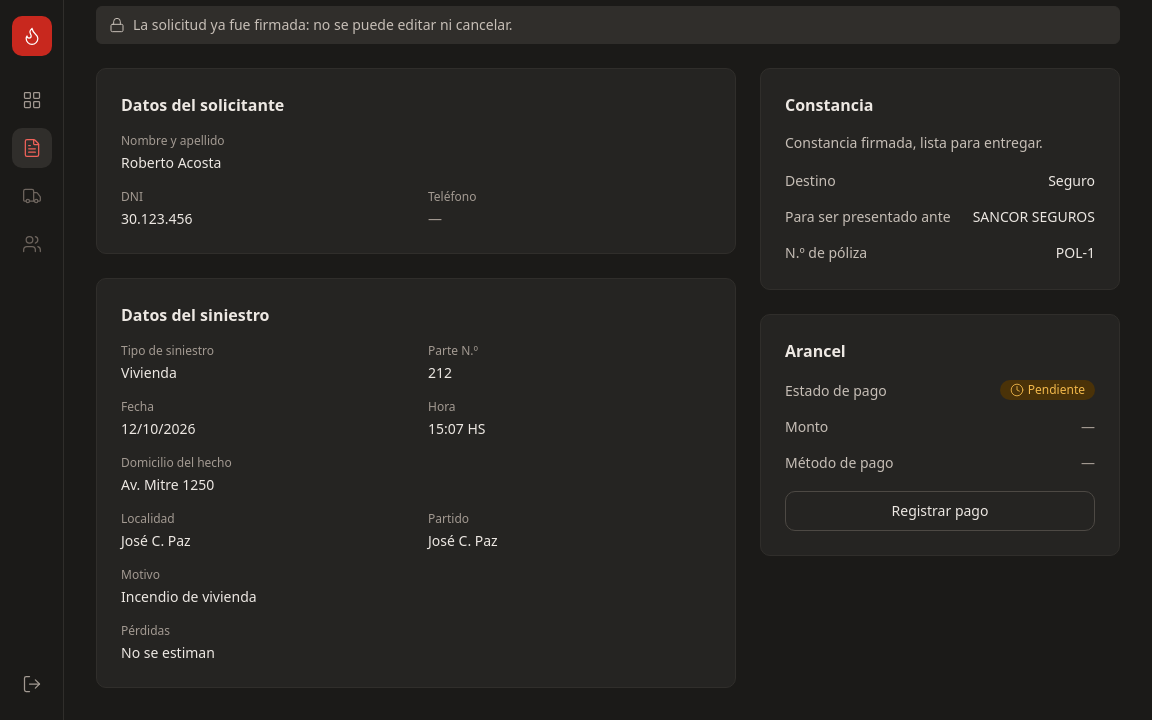
Test: SolicitudDetallePage · arancel (US14) › valida el modal y guarda el pago abonado
(page scrolled)
Click the button "Registrar pago". click: (940, 511)
box: [785,491,1095,531]
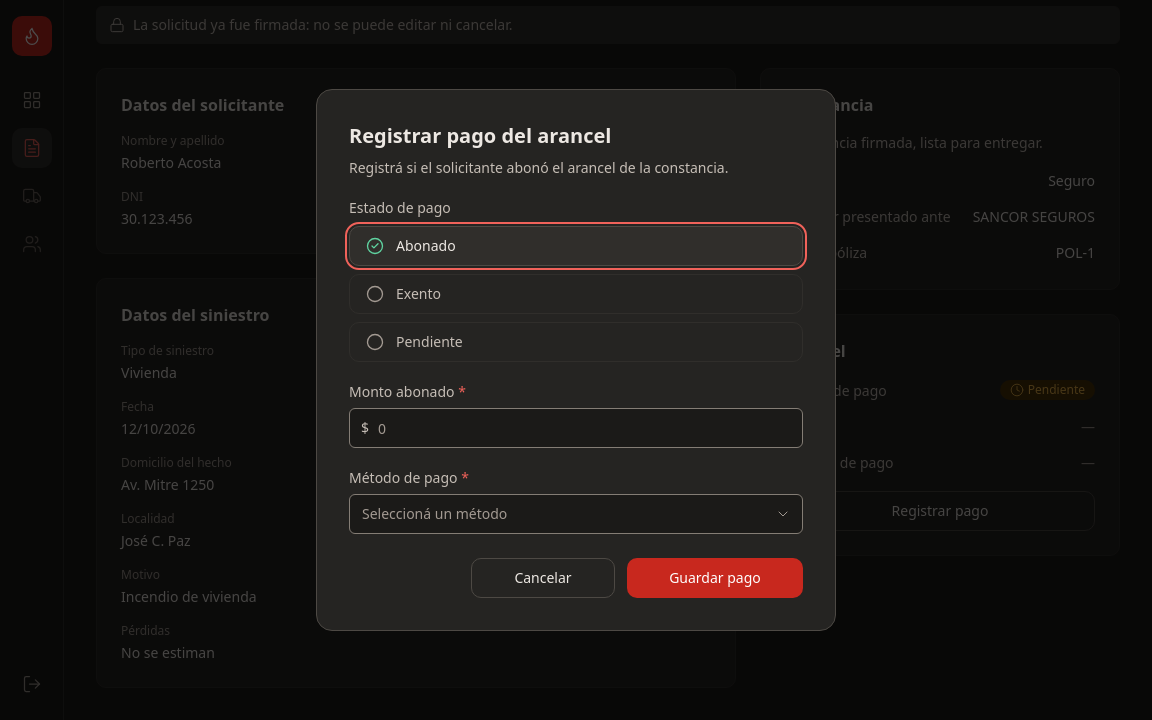
Click the button "Guardar pago". click: (715, 578)
box: [627,558,803,598]
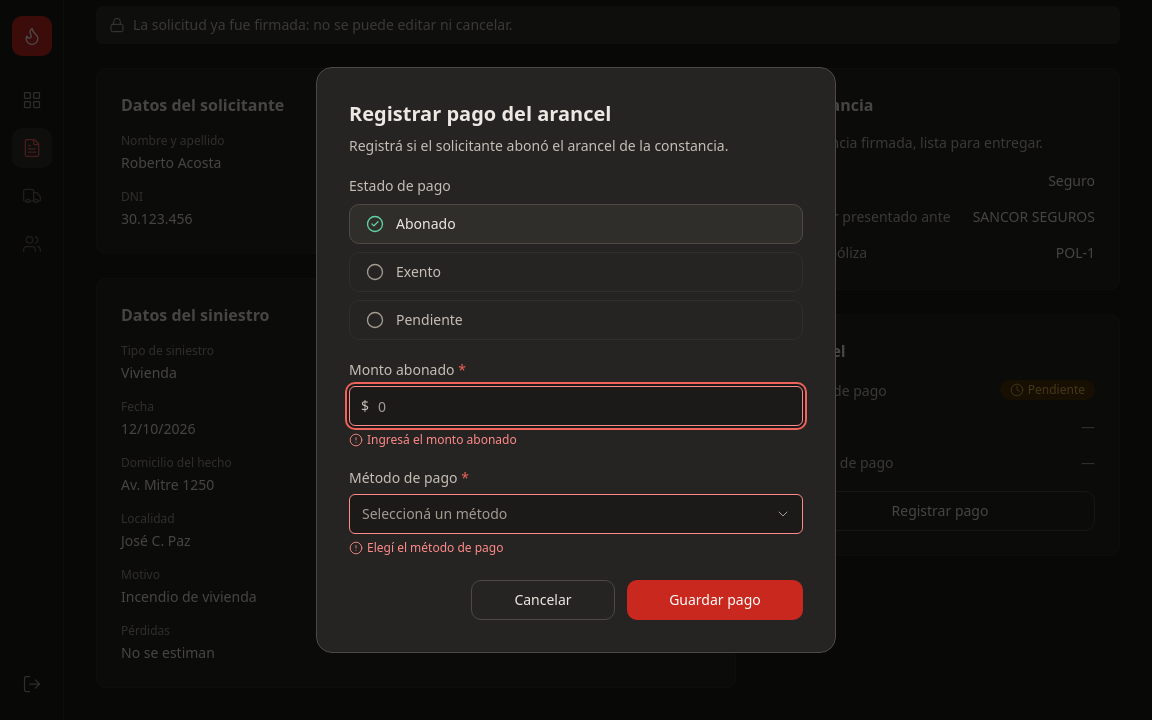
Check: the text "Ingresá el monto abonado" is shown, box [349,431,517,448]
Check: the text "Elegí el método de pago" is shown, box [349,539,504,556]
Type "12.000" into the field labelled "Monto abonado *". click: (576, 406)
box: [349,386,803,426]
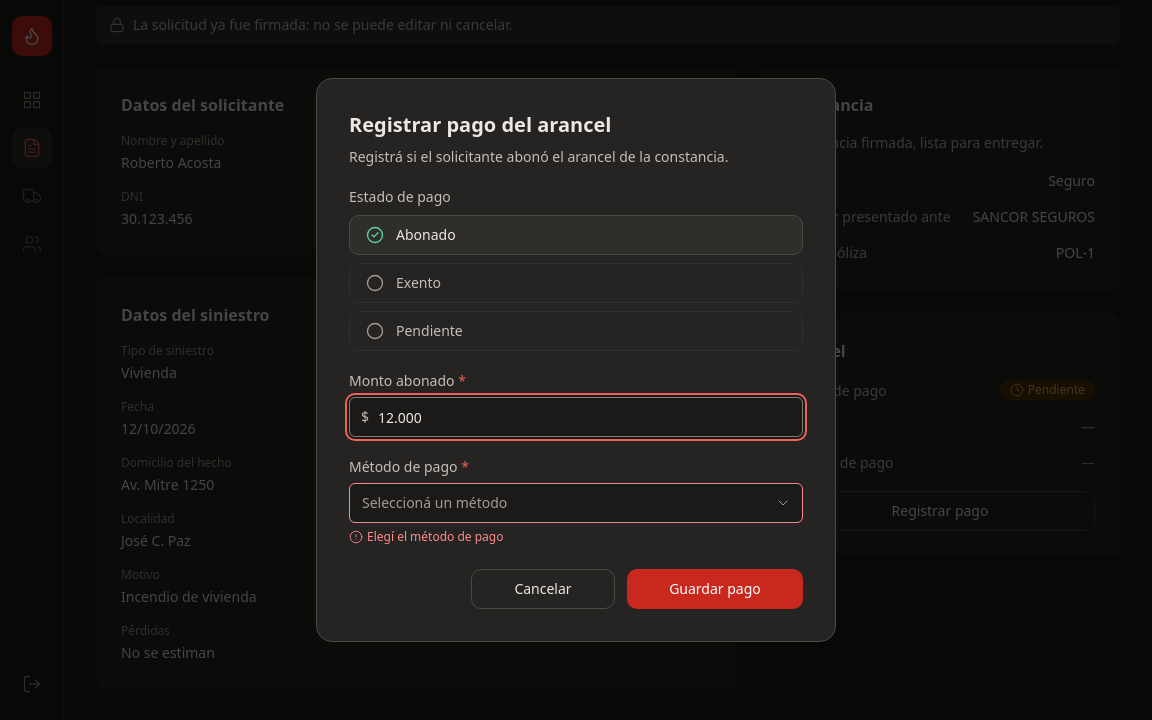
Select "Transferencia" in the dropdown labelled "Método de pago *". click: (576, 503)
box: [349,483,803,523]
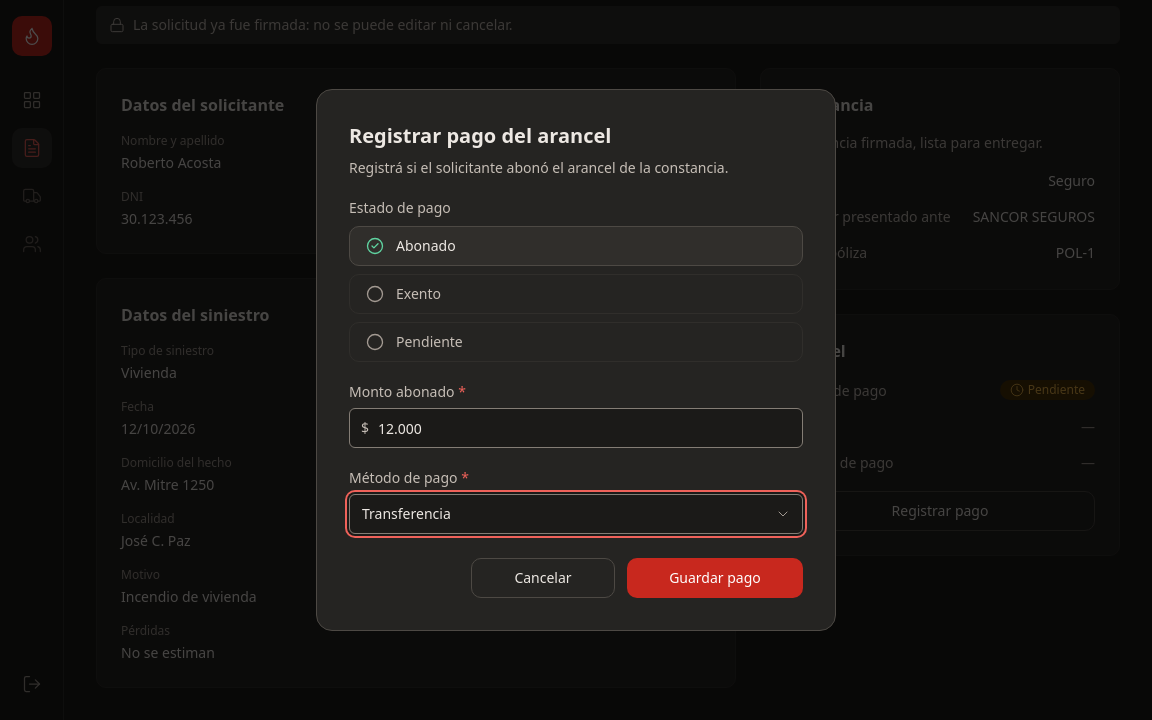
Click the button "Guardar pago". click: (715, 578)
box: [627,558,803,598]
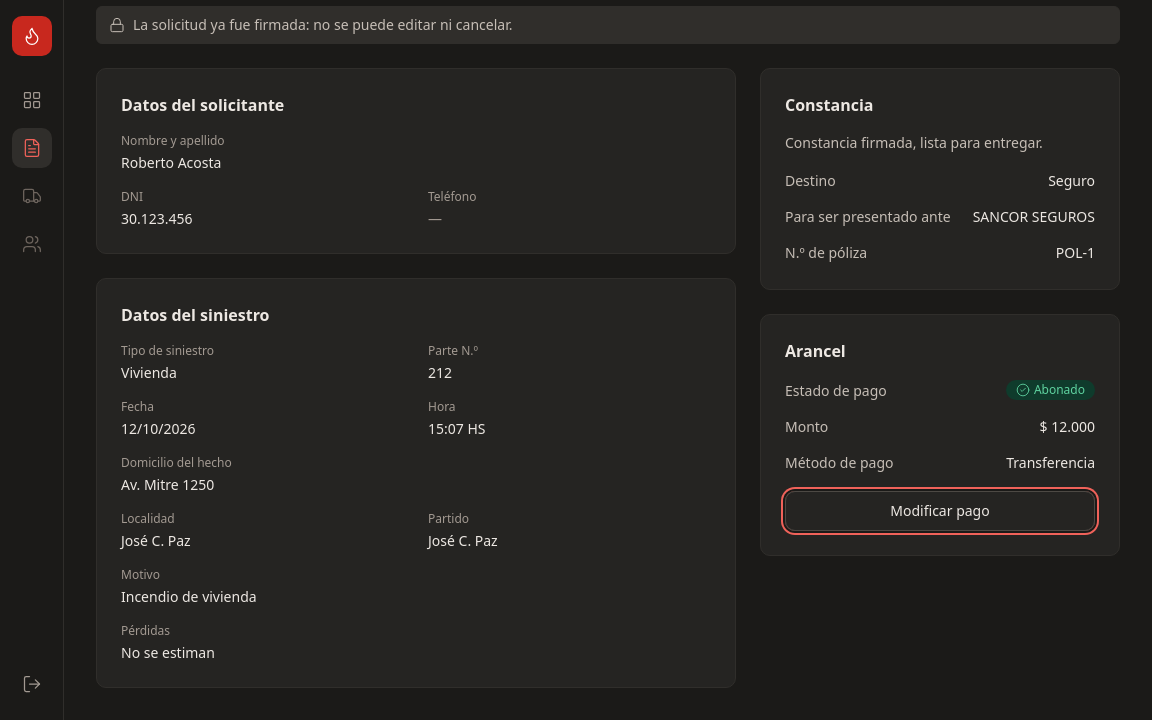
Check: the button "Modificar pago" is shown, box [785,491,1095,531]
